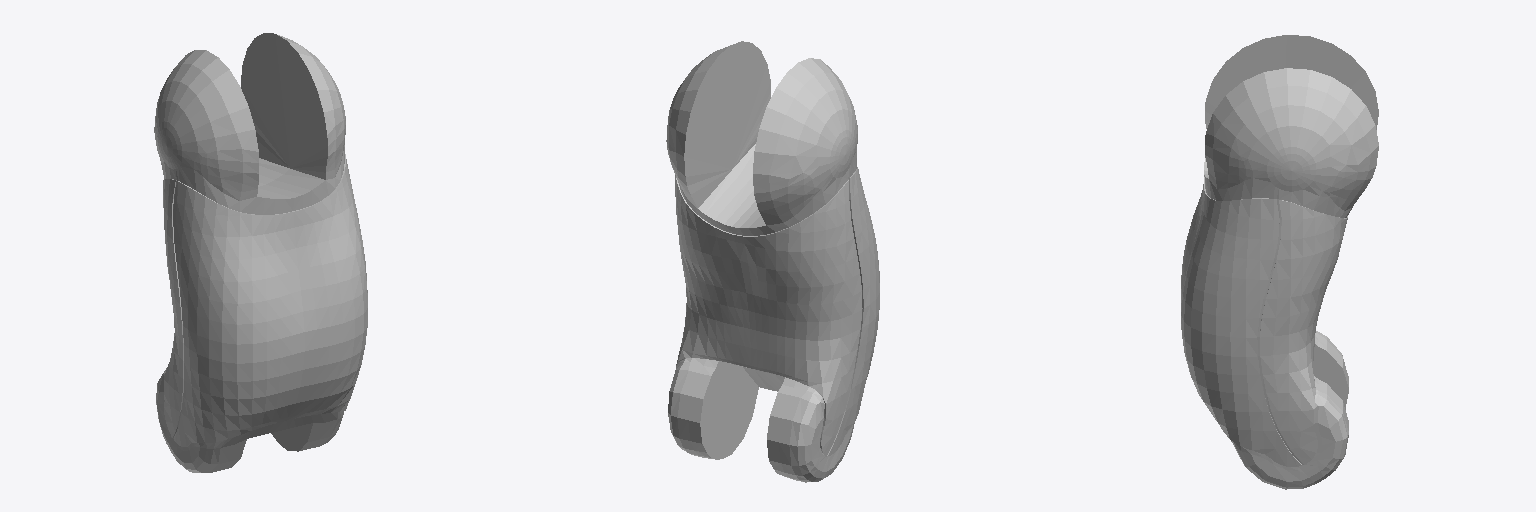
File: thigh.obj
The picture shows the model from 3 angles: view 1: azimuth 30°, elevation 25°; view 2: azimuth 150°, elevation 25°; view 3: azimuth 270°, elevation 25°; orthographic projection.
Parts seen in each view (by area): view 1: thigh; view 2: thigh; view 3: thigh.
Boxes of the visible parts, x1,y1,x2,y2 form: thigh: [154, 33, 367, 472]; thigh: [666, 41, 879, 482]; thigh: [1181, 35, 1378, 489].
Bounding box in the file's own units: 0.2564 × 0.5885 × 0.2584.